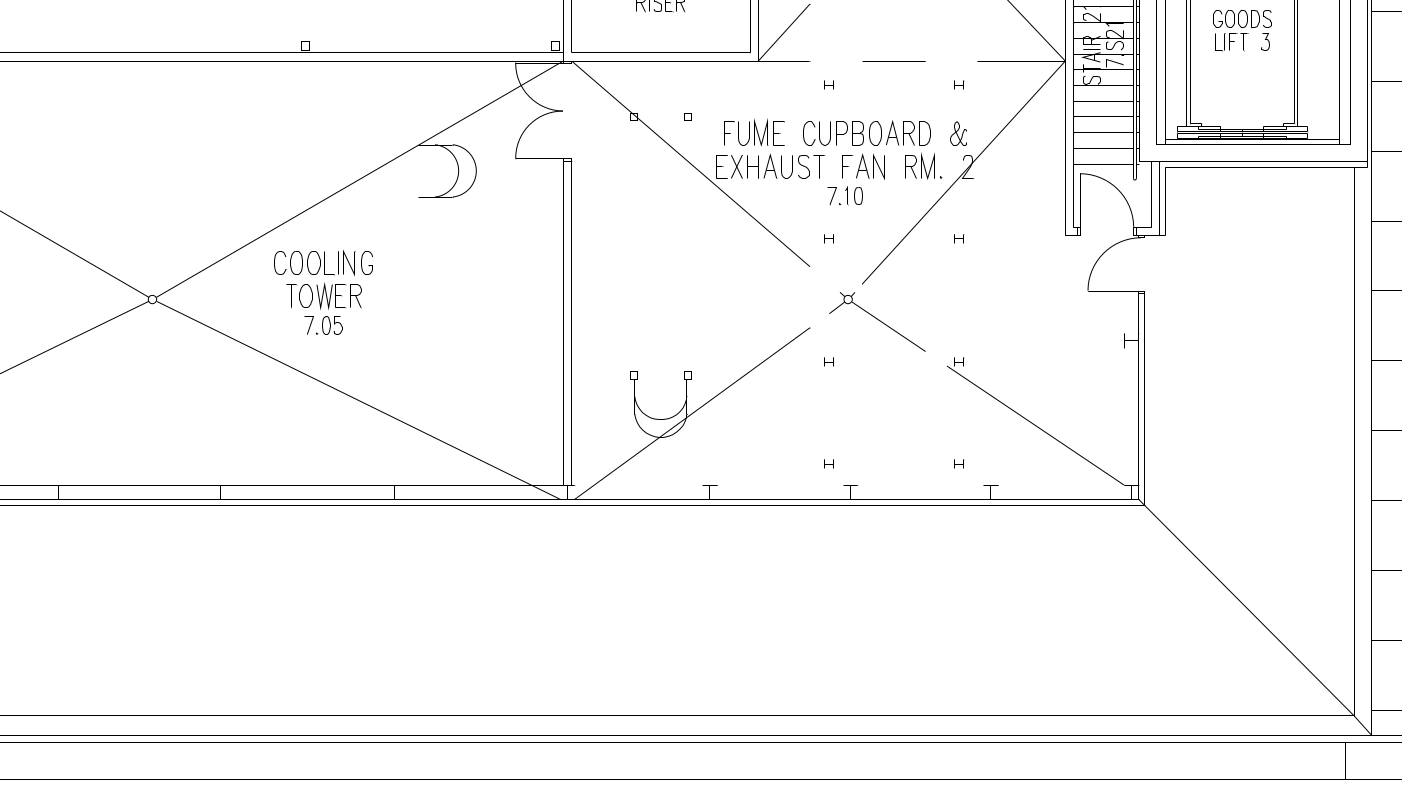door: (1077, 169, 1135, 236), (1078, 234, 1136, 301)
